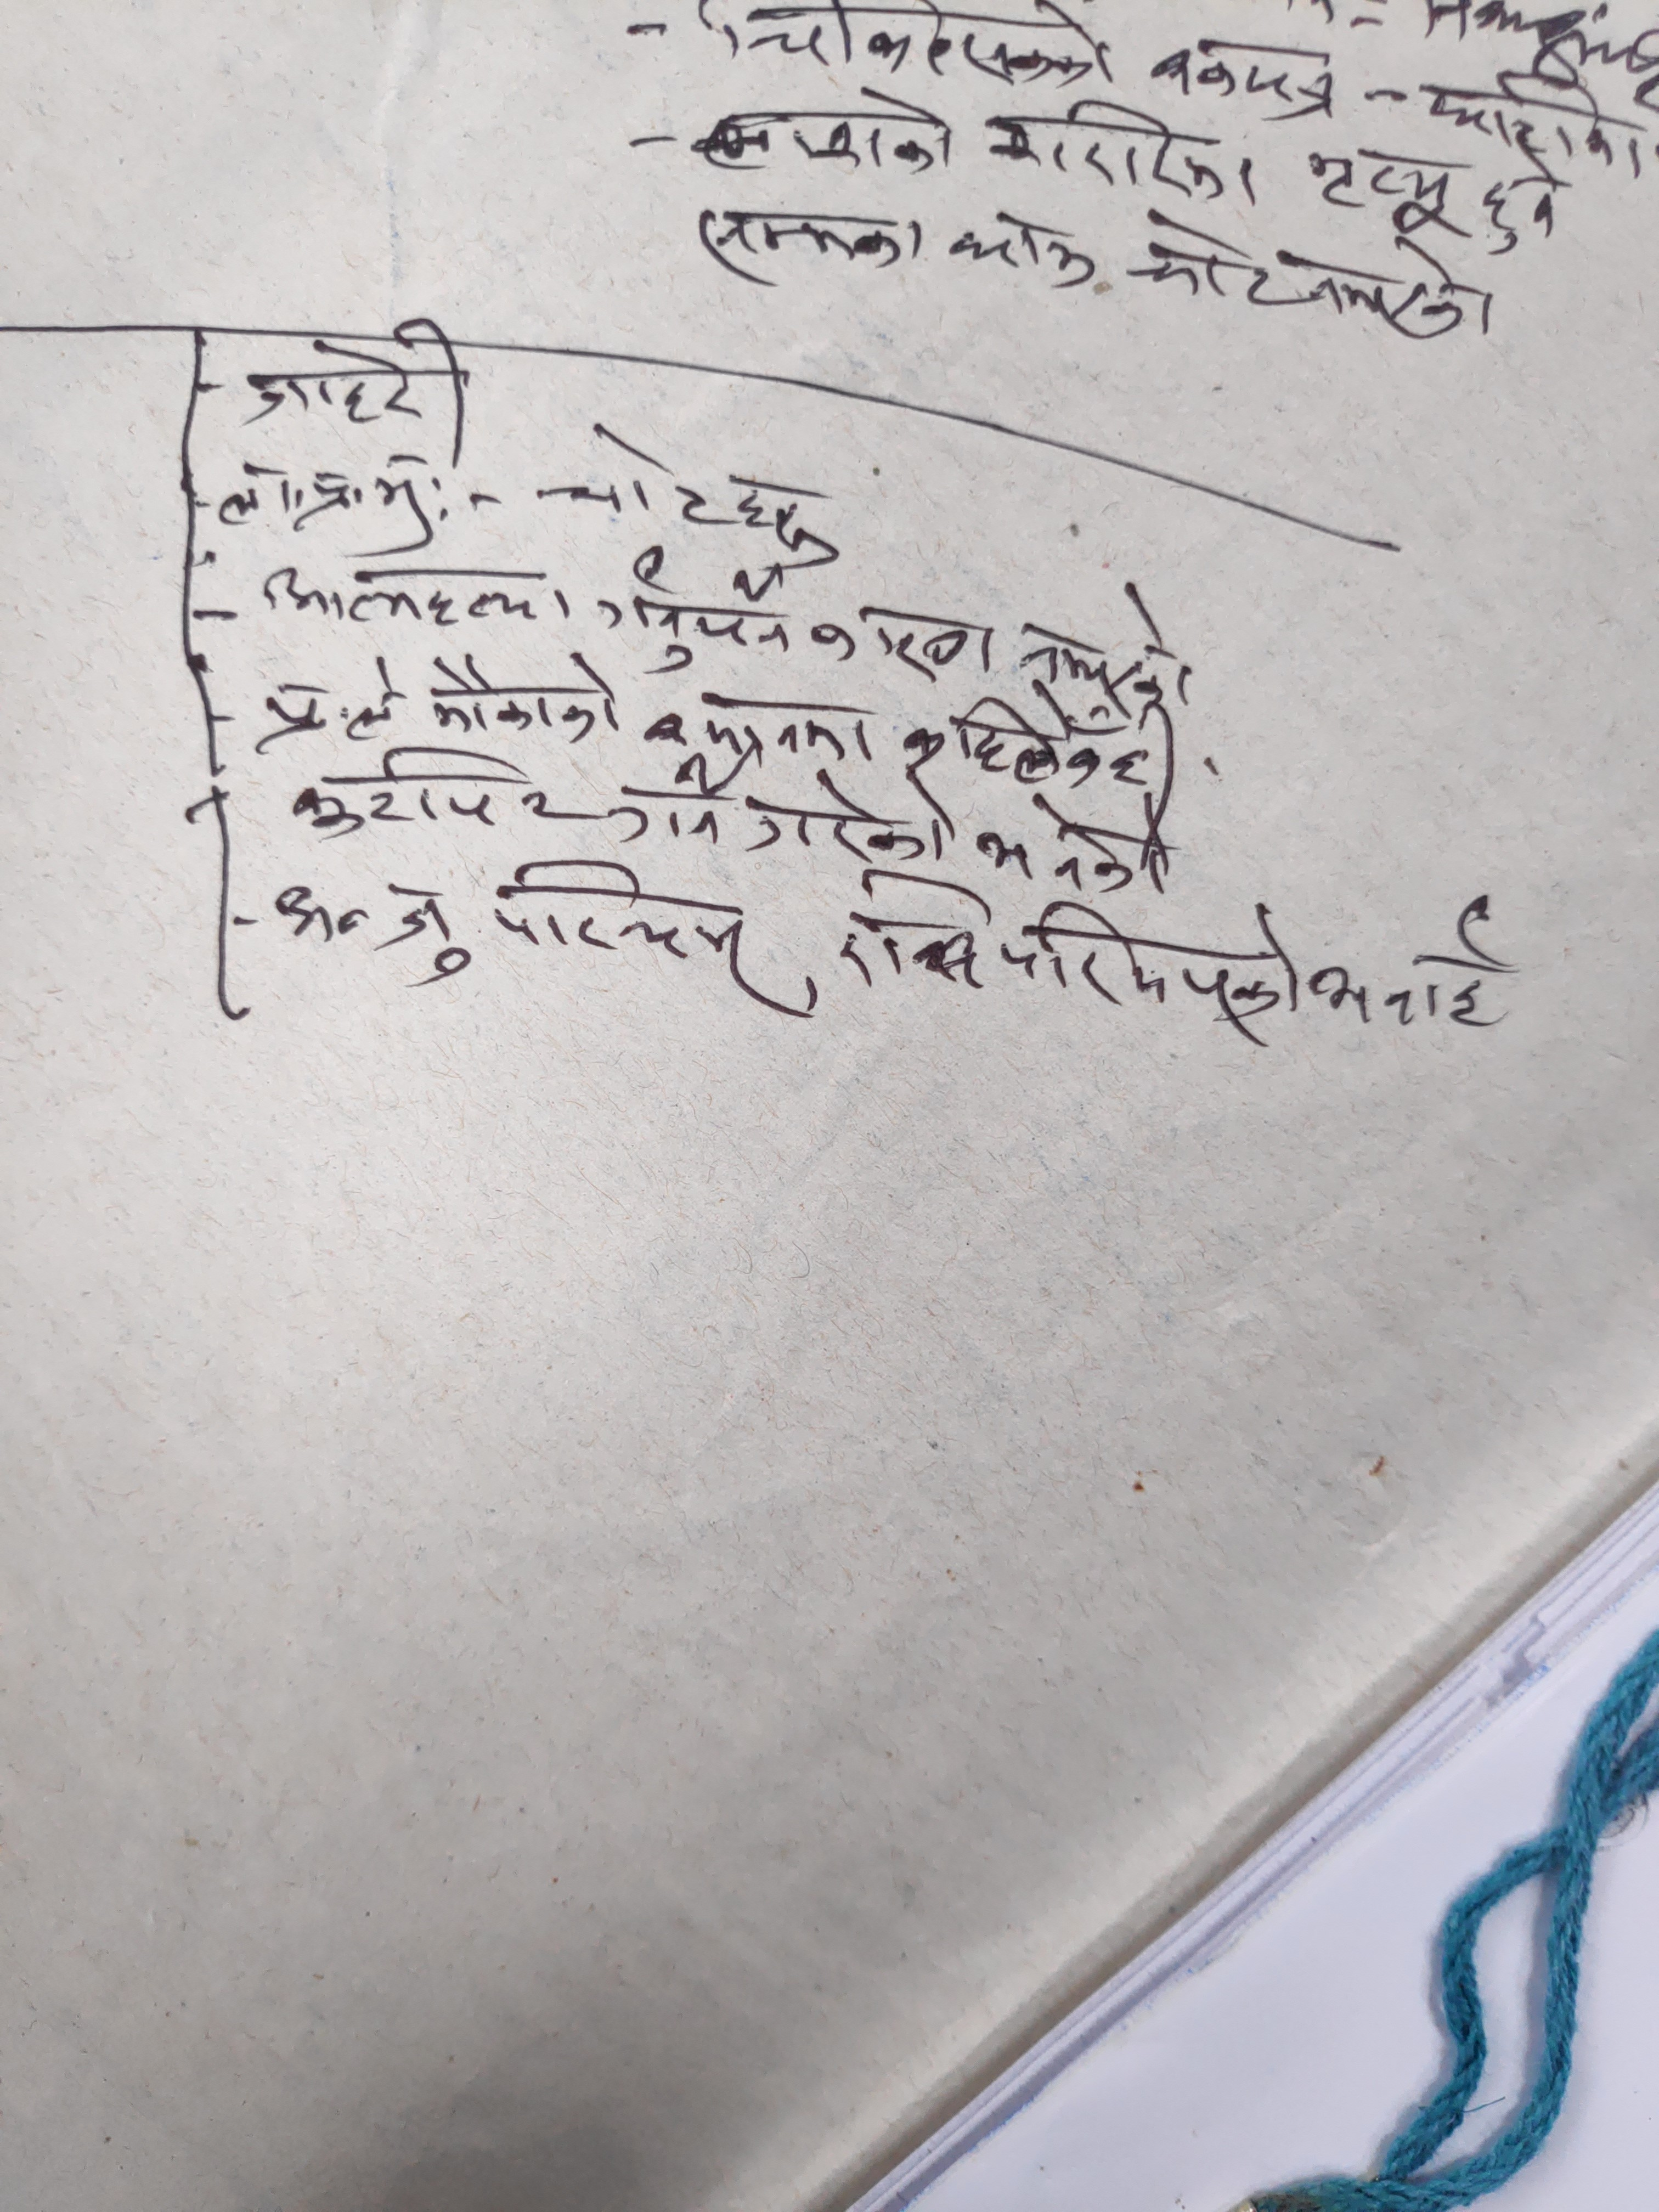text: (1131, 206, 1493, 354), (488, 845, 779, 1008), (983, 89, 1263, 212), (282, 735, 592, 845), (554, 418, 816, 547), (1305, 890, 1516, 1042), (692, 77, 964, 183), (232, 322, 486, 434), (256, 554, 582, 637), (270, 864, 479, 993), (971, 777, 1190, 899), (631, 580, 861, 686), (688, 186, 924, 289), (1298, 127, 1473, 244), (941, 193, 1096, 300)
